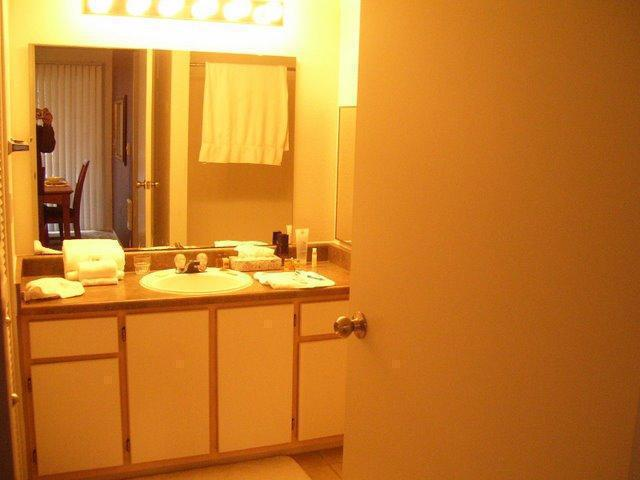Lavamanos: (133, 244, 260, 302)
Puerta: (342, 8, 633, 477)
